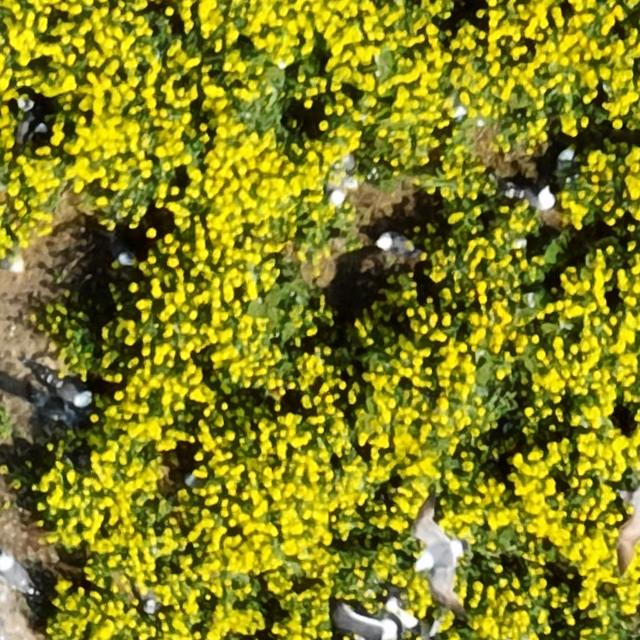F: (412, 502, 468, 616), (327, 602, 416, 640), (611, 483, 639, 571)
umineko: (34, 367, 92, 408), (46, 380, 89, 408), (0, 557, 32, 594), (331, 167, 356, 212), (511, 187, 555, 210), (555, 148, 580, 186), (16, 92, 35, 141), (377, 232, 415, 252), (115, 250, 140, 270)
